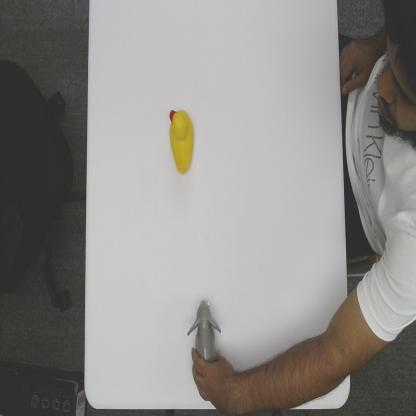Arm: (238, 314, 353, 416)
Duck: (167, 108, 195, 176)
Elephant: (187, 296, 221, 362)
Hand: (191, 344, 237, 407)
